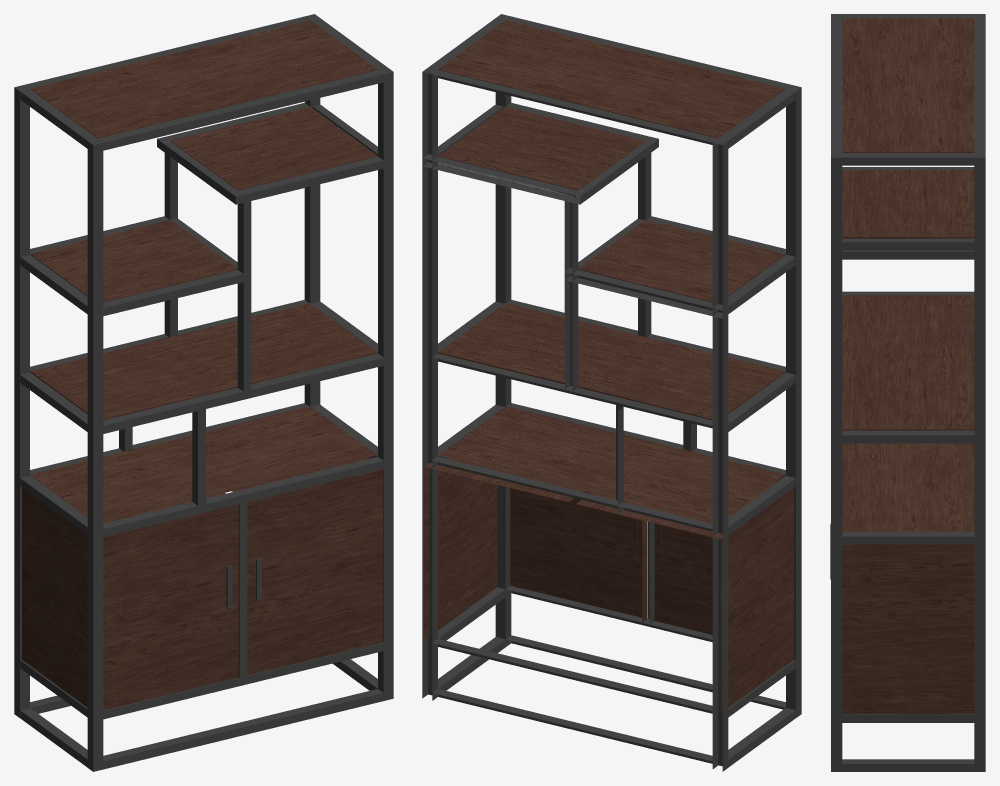
The model's file is estante_-_bookcase.glb.
3 views of the same model, side by side, from view 1: azimuth 30°, elevation 25°; view 2: azimuth 150°, elevation 25°; view 3: azimuth 270°, elevation 25° (orthographic). The views are drawn at different scales.
Visible parts, largest first — view 1: Estante; view 2: Estante; view 3: Estante.
Boxes of the visible parts, x1=… form: Estante: x1=14, y1=14, x2=393, y2=771; Estante: x1=422, y1=14, x2=801, y2=771; Estante: x1=830, y1=14, x2=985, y2=771.
Size of the model in its own units: 0.9032 by 1.8 by 0.4132.
1 material, 1 textured.
